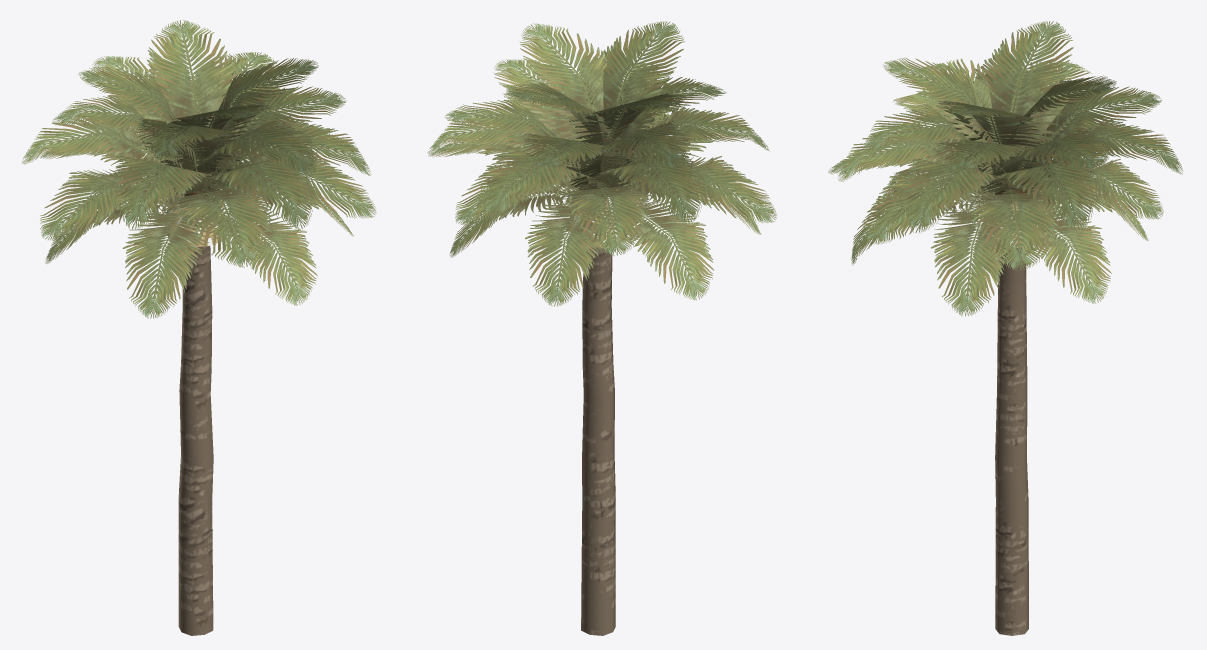
Rendered from PalmTree.fbx.
The picture shows the model from 3 angles, left to right: view 1: azimuth 30°, elevation 25°; view 2: azimuth 150°, elevation 25°; view 3: azimuth 270°, elevation 25°; orthographic projection.
Parts seen in each view (by area): view 1: PalmTree; view 2: PalmTree; view 3: PalmTree.
Part boxes in pixels (box(x1,y1,x2,y2)): PalmTree: box(21, 20, 376, 635); PalmTree: box(427, 21, 776, 635); PalmTree: box(828, 21, 1182, 635).
Size of the model in its own units: 1136 by 1773 by 1076.
